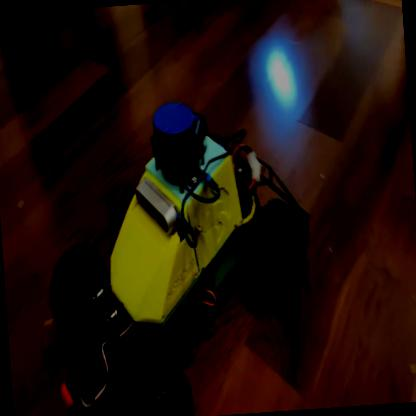mushr_car: (36, 86, 327, 415)
